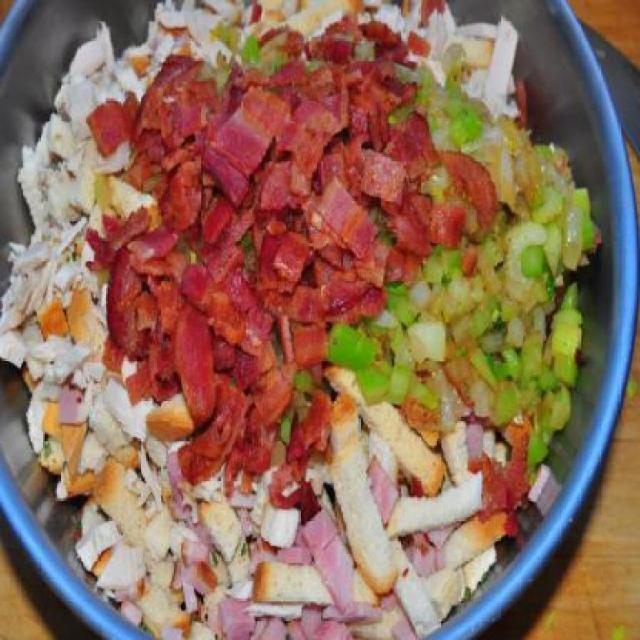Salad: (0, 0, 601, 638)
